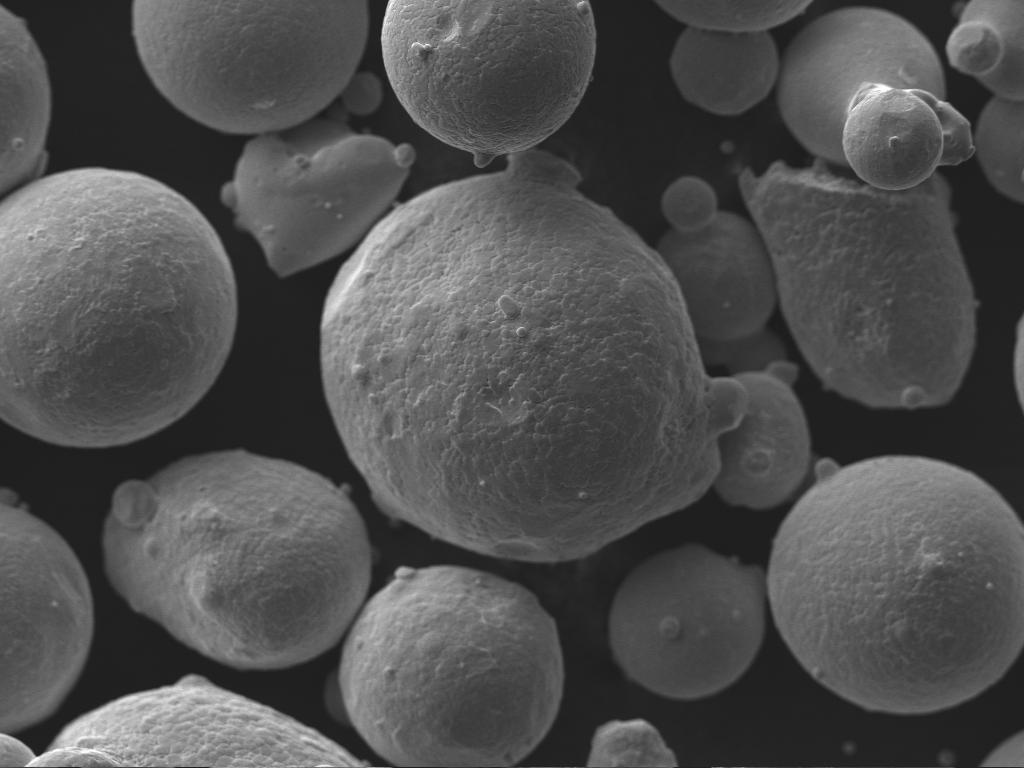Powder: (322, 150, 744, 561), (0, 168, 238, 448), (766, 456, 1024, 713), (102, 450, 372, 670), (740, 162, 976, 409), (324, 566, 564, 766), (220, 72, 416, 278), (776, 6, 974, 189), (382, 0, 596, 168), (0, 674, 364, 766), (132, 0, 366, 134), (608, 544, 766, 699), (0, 488, 94, 733), (658, 176, 776, 342), (657, 0, 812, 115), (714, 360, 810, 509), (0, 6, 52, 197), (946, 0, 1024, 101), (976, 98, 1024, 203), (589, 718, 678, 767)
